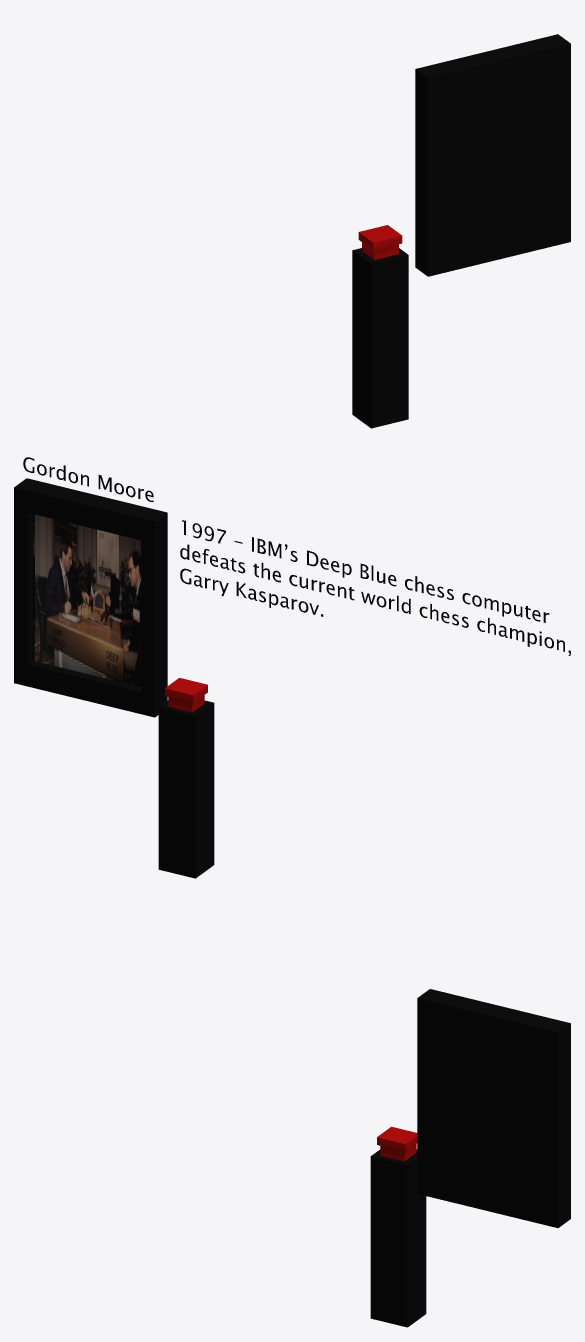
3 views of the same model, one above another, from view 1: azimuth 30°, elevation 25°; view 2: azimuth 150°, elevation 25°; view 3: azimuth 330°, elevation 25° (orthographic).
Parts seen in each view (by area): view 1: typeMesh37, polySurface4290; view 2: typeMesh37, polySurface4290; view 3: typeMesh37, polySurface4290.
Part boxes in pixels (x1=…): typeMesh37: x1=415, y1=34, x2=570, y2=276; polySurface4290: x1=352, y1=225, x2=408, y2=428; typeMesh37: x1=14, y1=457, x2=570, y2=717; polySurface4290: x1=158, y1=678, x2=214, y2=878; typeMesh37: x1=417, y1=989, x2=570, y2=1227; polySurface4290: x1=370, y1=1126, x2=426, y2=1327.
Size of what is drawn, in the model's own units: 6.11 by 3.88 by 0.4533.
Materials: 4 (1 with a texture image).
